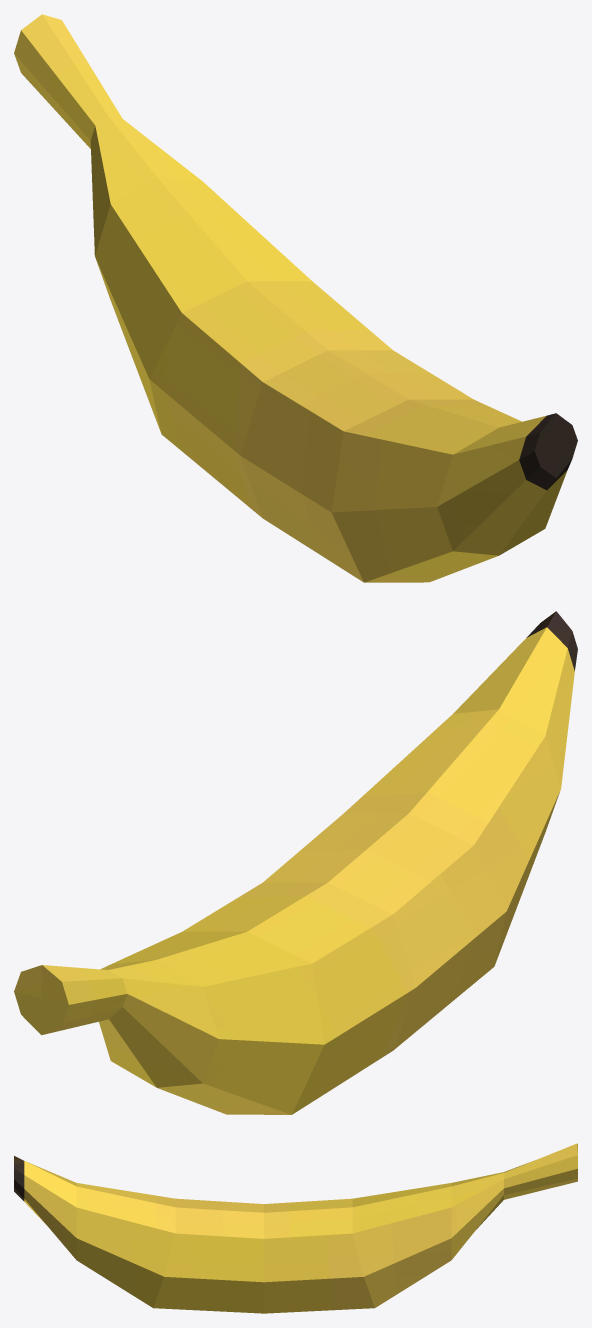
The model's file is 736c3f3a-8f3a-4a52-8689-9cbfbd0ff479.glb.
3 views of the same model, one above another, from view 1: azimuth 30°, elevation 25°; view 2: azimuth 150°, elevation 25°; view 3: azimuth 270°, elevation 25° (orthographic). The views are drawn at different scales.
Parts seen in each view (by area): view 1: Cube.006_Cube.008; view 2: Cube.006_Cube.008; view 3: Cube.006_Cube.008.
Part boxes in pixels (box(x1,y1,x2,y2)): Cube.006_Cube.008: box(14, 14, 577, 582); Cube.006_Cube.008: box(14, 611, 577, 1114); Cube.006_Cube.008: box(14, 1143, 577, 1313).
Bounding box in the file's own units: 0.2843 × 0.4573 × 1.45.
Materials: 1 (1 with a texture image).
